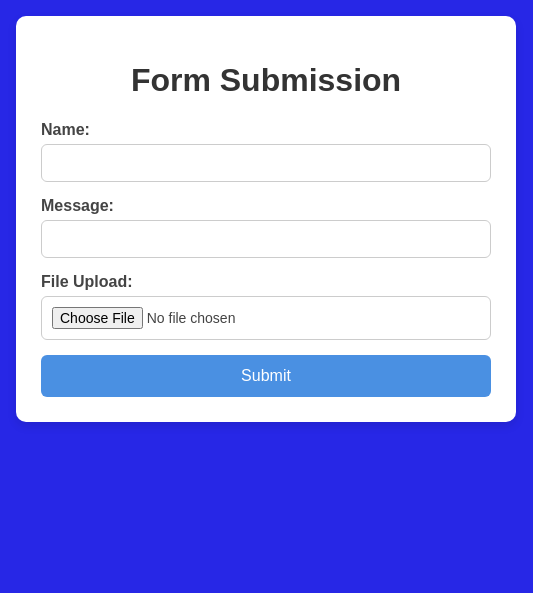
Scenario: App Frontend Tests › shows validation errors when fields are empty
Step 1. Click the button "Submit" → (266, 376), box x1=41 y1=355 x2=491 y2=397
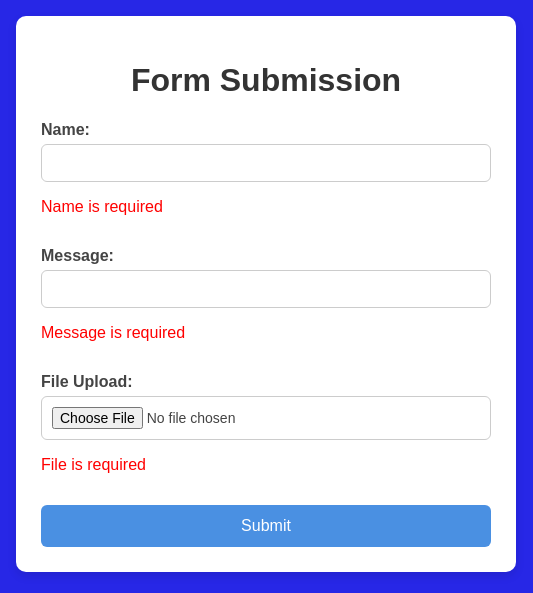
Result: the text "Name is required" is shown at x1=41 y1=198 x2=163 y2=215
Result: the text "Message is required" is shown at x1=41 y1=324 x2=185 y2=341
Result: the text "File is required" is shown at x1=41 y1=456 x2=146 y2=473
